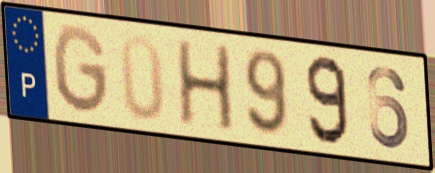0: (117, 31, 167, 125)
6: (365, 65, 413, 152)
9: (304, 54, 351, 147), (244, 46, 290, 140)
G: (49, 22, 111, 119)
H: (174, 38, 238, 135)
